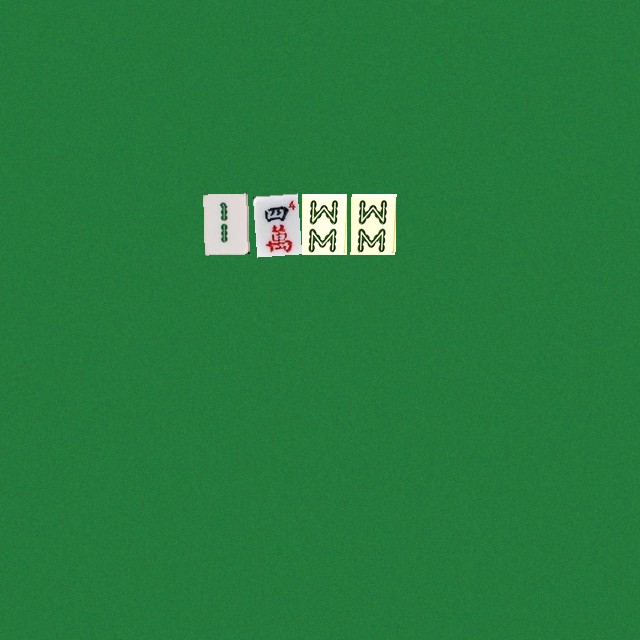tile: (203, 193, 248, 254), (252, 193, 297, 254), (301, 193, 346, 254), (350, 193, 395, 254)
